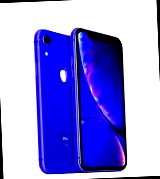iphone: (72, 27, 125, 173)
